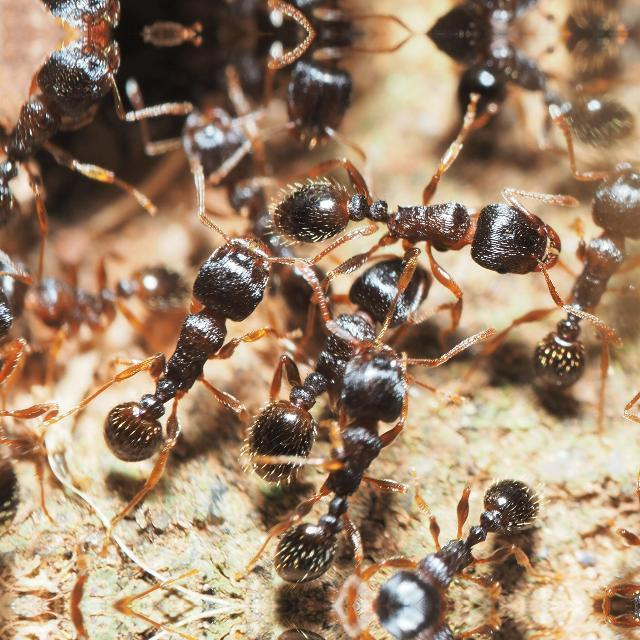Tetramorium: (83, 205, 294, 471), (248, 239, 442, 496), (250, 344, 446, 590), (238, 157, 584, 277), (350, 462, 578, 604), (517, 148, 639, 402), (0, 33, 140, 245), (393, 33, 633, 147), (0, 230, 182, 336), (263, 33, 399, 154), (349, 606, 576, 640), (393, 0, 633, 32), (263, 0, 399, 32)
